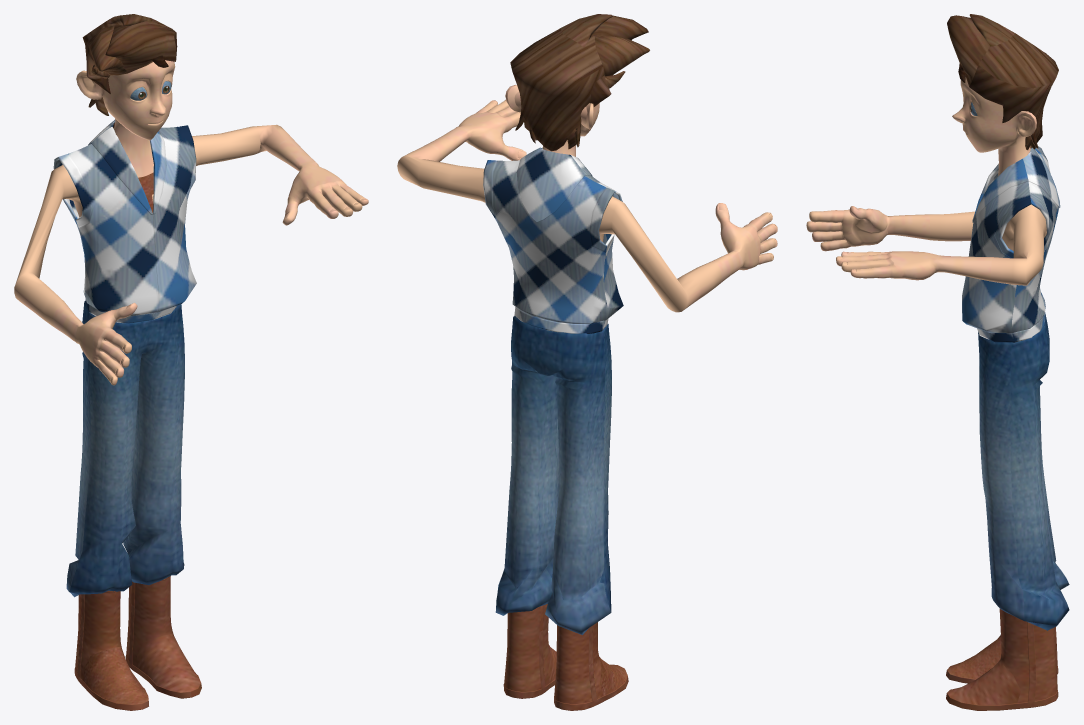
The model's file is personaje.obj.
3 views of the same model, side by side, from view 1: azimuth 30°, elevation 25°; view 2: azimuth 150°, elevation 25°; view 3: azimuth 270°, elevation 25° (orthographic). The views are drawn at different scales.
Parts seen in each view (by area): view 1: boy.003, boy.001, boy.005, boy.002, boy.004; view 2: boy.003, boy.001, boy.005, boy.004, boy.002; view 3: boy.003, boy.005, boy.001, boy.002, boy.004.
Part boxes in pixels (x1,y1,x2,y2): boy.003: (66,301,184,597); boy.001: (53,120,196,323); boy.005: (14,60,368,385); boy.002: (74,576,201,710); boy.004: (82,14,177,115); boy.003: (495,316,611,634); boy.001: (483,147,623,333); boy.005: (397,85,777,312); boy.004: (510,14,649,151); boy.002: (503,604,628,710); boy.003: (978,312,1069,630); boy.005: (806,77,1046,285); boy.001: (962,146,1060,342); boy.002: (946,608,1058,710); boy.004: (947,14,1058,150).
Bounding box in the file's own units: 6.8 × 15.59 × 5.62.
